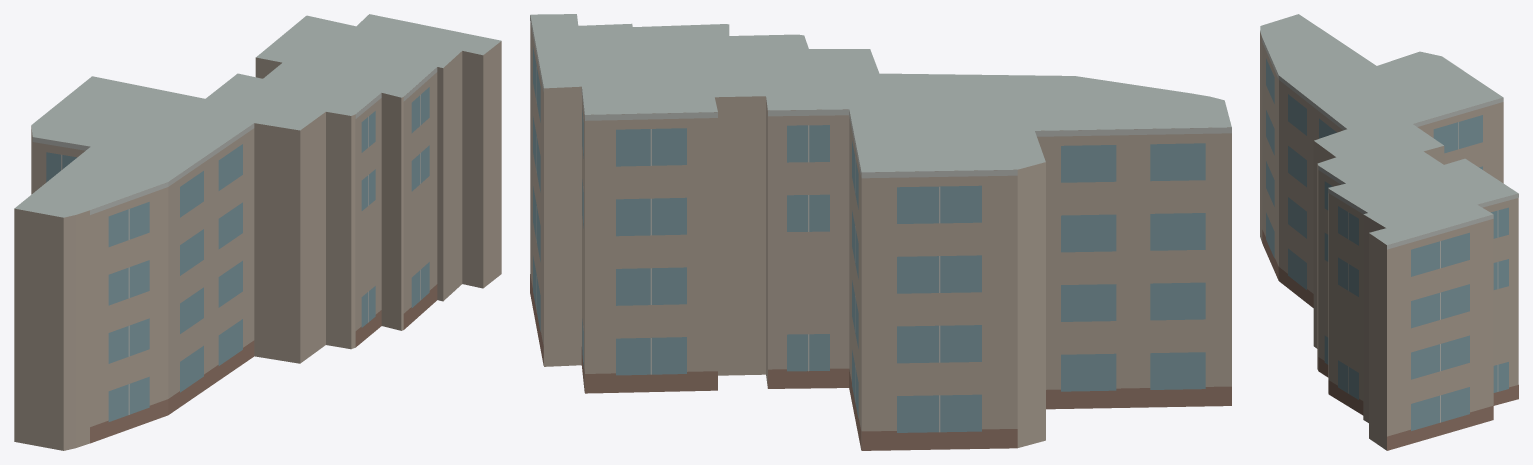
The model's file is survey-upis-32458440.glb.
3 renders of one model, left to right at view 1: azimuth 30°, elevation 25°; view 2: azimuth 150°, elevation 25°; view 3: azimuth 270°, elevation 25°, orthographic. The views are drawn at different scales.
Parts seen in each view (by area): view 1: survey-upis-32458440.tmp; view 2: survey-upis-32458440.tmp; view 3: survey-upis-32458440.tmp.
Boxes of the visible parts, x1,y1,x2,y2 form: survey-upis-32458440.tmp: (14, 14, 501, 450); survey-upis-32458440.tmp: (530, 14, 1231, 450); survey-upis-32458440.tmp: (1260, 14, 1518, 450).
Size of the model in its own units: 27.64 by 11.46 by 13.07.
